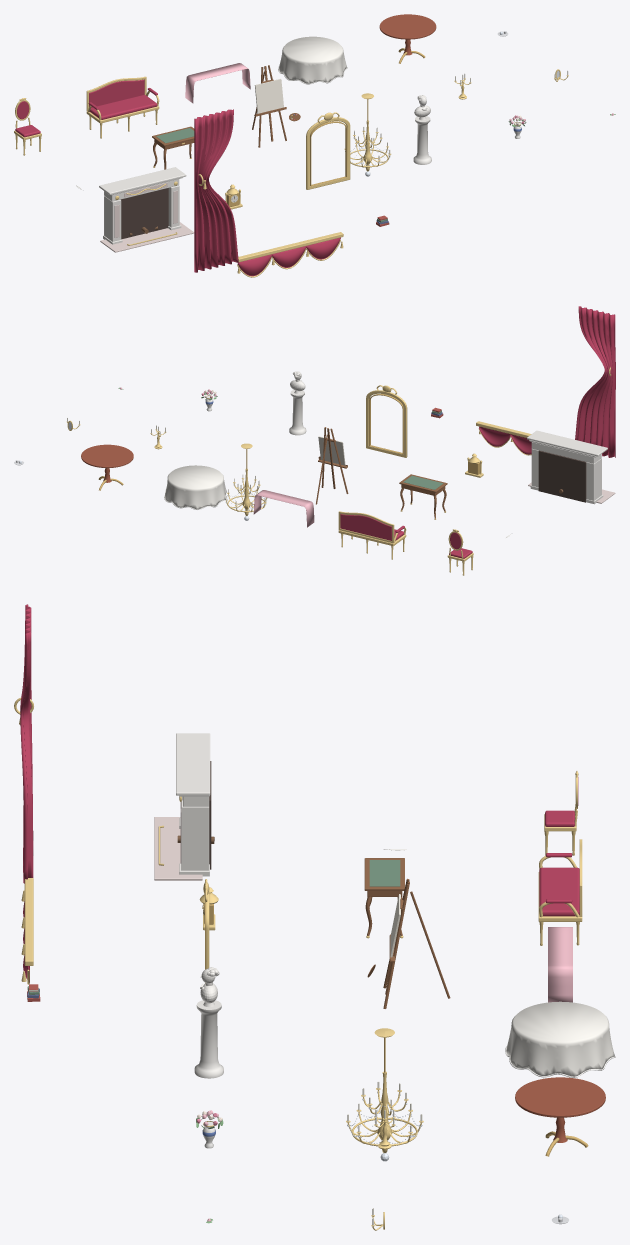
The model's file is decor.glb.
3 renders of one model, top to bottom at view 1: azimuth 30°, elevation 25°; view 2: azimuth 150°, elevation 25°; view 3: azimuth 270°, elevation 25°, orthographic. The views are drawn at different scales.
Parts seen in each view (by area): view 1: fp_body, curtain_mesh, tablecloth_mesh, settee_mesh, valance_mesh, round_table_mesh, es_body, mirror_frame_mesh, cd_body, bust_mesh, writing_desk_mesh, runner_mesh (+1 smaller); view 2: fp_body, curtain_mesh, tablecloth_mesh, settee_mesh, round_table_mesh, mirror_frame_mesh, es_body, valance_mesh, writing_desk_mesh, cd_body, bust_mesh, runner_mesh (+1 smaller); view 3: tablecloth_mesh, fp_body, round_table_mesh, settee_mesh, curtain_mesh, cd_body, bust_mesh, runner_mesh, writing_desk_mesh, es_body, valance_mesh, chair_mesh.
Part boxes in pixels (x1,y1,x2,y2): fp_body: [99, 167, 194, 252]; curtain_mesh: [194, 109, 238, 272]; tablecloth_mesh: [278, 36, 347, 84]; settee_mesh: [86, 76, 159, 138]; valance_mesh: [237, 232, 343, 277]; round_table_mesh: [379, 14, 436, 63]; es_body: [252, 65, 286, 147]; mirror_frame_mesh: [306, 112, 350, 189]; cd_body: [344, 93, 391, 176]; bust_mesh: [413, 95, 431, 164]; writing_desk_mesh: [152, 126, 194, 169]; runner_mesh: [185, 63, 250, 103]; fp_body: [527, 430, 615, 504]; curtain_mesh: [575, 306, 615, 457]; tablecloth_mesh: [164, 465, 227, 509]; settee_mesh: [338, 511, 406, 559]; round_table_mesh: [81, 444, 133, 490]; mirror_frame_mesh: [366, 385, 407, 457]; es_body: [316, 427, 348, 504]; valance_mesh: [476, 421, 531, 455]; writing_desk_mesh: [399, 474, 447, 519]; cd_body: [225, 443, 267, 520]; bust_mesh: [289, 371, 306, 435]; runner_mesh: [253, 490, 314, 527]; tablecloth_mesh: [505, 1001, 615, 1077]; fp_body: [154, 733, 214, 880]; round_table_mesh: [515, 1077, 605, 1156]; settee_mesh: [538, 839, 582, 945]; curtain_mesh: [14, 604, 33, 883]; cd_body: [346, 1028, 423, 1161]; bust_mesh: [194, 967, 223, 1078]; runner_mesh: [548, 927, 572, 1002]; writing_desk_mesh: [364, 858, 404, 938]; es_body: [383, 878, 450, 1008]; valance_mesh: [21, 878, 33, 984]; chair_mesh: [544, 771, 578, 855].
Size of the model in its own units: 13.19 by 5.04 by 8.23.
